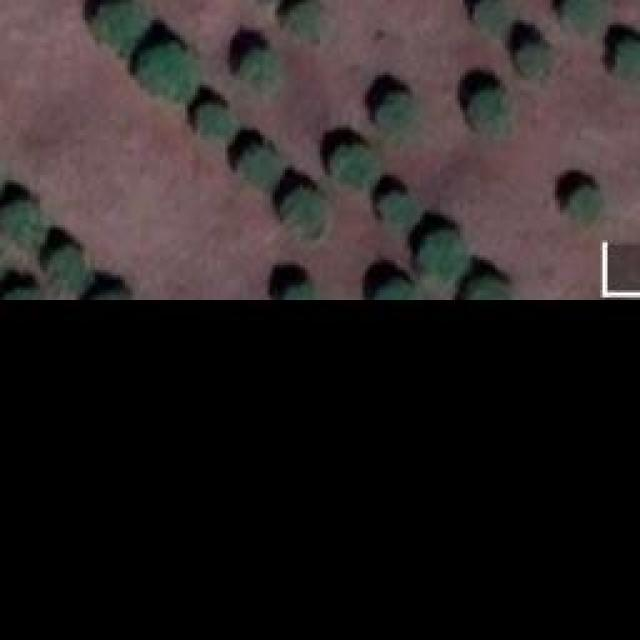Tree: (143, 45, 193, 100), (95, 0, 143, 48), (423, 230, 468, 280), (3, 203, 46, 246), (285, 190, 323, 233), (47, 248, 85, 291), (473, 90, 508, 135), (333, 148, 376, 183), (462, 272, 510, 300), (197, 105, 235, 138), (380, 95, 415, 130), (245, 150, 280, 183), (565, 0, 603, 30), (380, 195, 418, 225), (287, 0, 315, 40), (615, 42, 640, 80), (520, 45, 548, 78), (245, 50, 273, 83), (575, 185, 600, 220), (475, 2, 505, 30), (375, 283, 423, 298), (275, 280, 310, 300)
